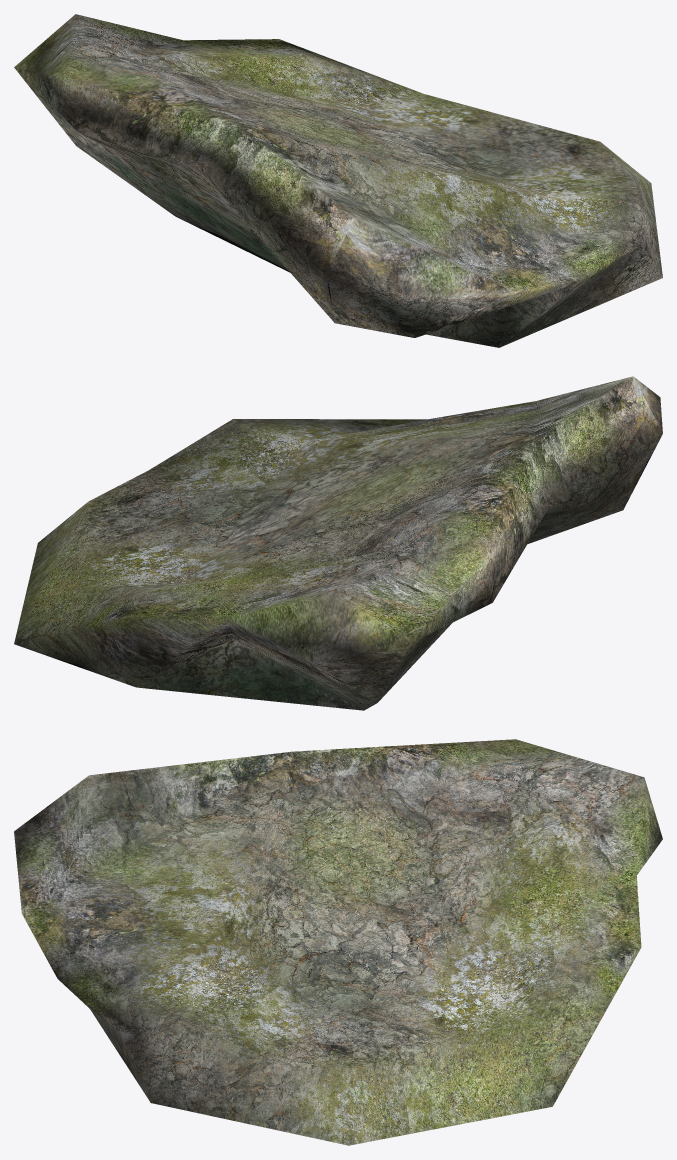
The model's file is rock_008_LOD.fbx.
3 views of the same model, one above another, from view 1: azimuth 30°, elevation 25°; view 2: azimuth 150°, elevation 25°; view 3: azimuth 270°, elevation 25° (orthographic). The views are drawn at different scales.
Visible parts, largest first — view 1: rock_008_LOD2; view 2: rock_008_LOD2; view 3: rock_008_LOD2.
Boxes of the visible parts, x1=… form: rock_008_LOD2: x1=14, y1=14, x2=662, y2=347; rock_008_LOD2: x1=14, y1=376, x2=662, y2=710; rock_008_LOD2: x1=14, y1=739, x2=662, y2=1145.
Size of the model in its own units: 610 by 214 by 691.
Materials: 1 (1 with a texture image).
